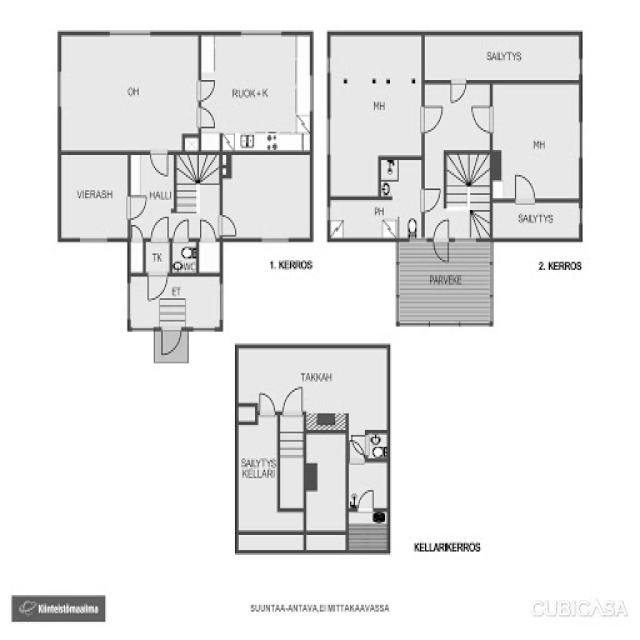door: (59, 33, 200, 155), (326, 36, 424, 194), (198, 29, 308, 150), (489, 78, 581, 204), (237, 346, 389, 419), (422, 33, 582, 82), (222, 153, 312, 238), (58, 151, 130, 235), (237, 422, 283, 530), (330, 199, 425, 240), (489, 198, 578, 239), (351, 456, 388, 514), (382, 158, 422, 200), (197, 237, 221, 274), (171, 242, 199, 271), (367, 436, 391, 460), (128, 240, 142, 270)
window: (72, 231, 114, 252), (237, 26, 286, 40), (255, 235, 296, 249), (55, 64, 64, 108), (325, 114, 334, 158), (124, 284, 134, 319), (107, 32, 156, 38), (578, 117, 584, 163), (218, 284, 224, 322), (325, 51, 331, 80), (577, 204, 585, 224), (577, 52, 582, 80), (326, 197, 330, 222)
zone: (144, 150, 170, 183), (471, 100, 495, 134), (511, 173, 534, 206), (419, 102, 444, 132), (431, 219, 450, 258), (144, 268, 167, 300), (192, 99, 217, 128), (254, 386, 278, 416), (191, 80, 219, 104), (151, 215, 171, 246), (282, 388, 302, 418), (162, 326, 183, 354), (422, 188, 443, 215), (122, 195, 146, 217), (199, 216, 215, 245), (218, 212, 236, 237), (450, 76, 463, 110), (358, 486, 374, 511), (176, 219, 191, 242), (352, 432, 364, 460), (127, 224, 142, 239)
